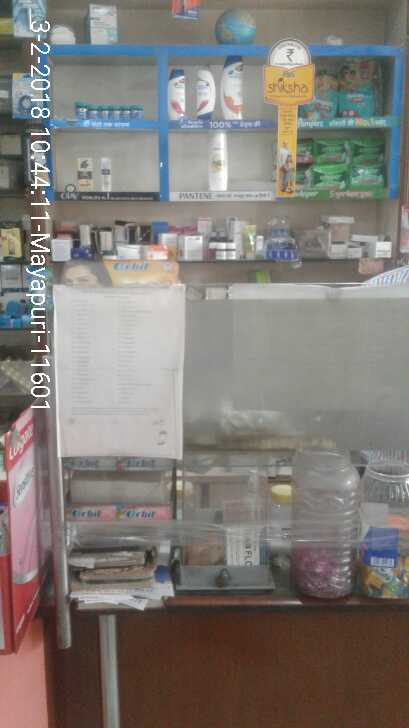vicks: (72, 99, 146, 121)
